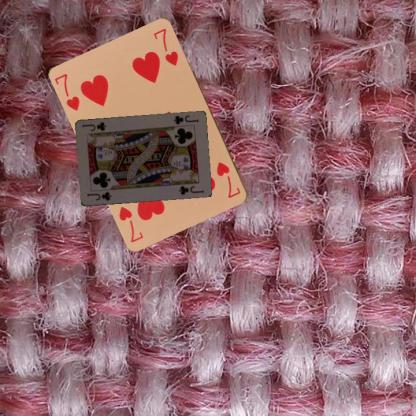7h: (52, 71, 82, 112), (214, 160, 242, 200)
Jc: (171, 113, 199, 126), (84, 190, 112, 202)
